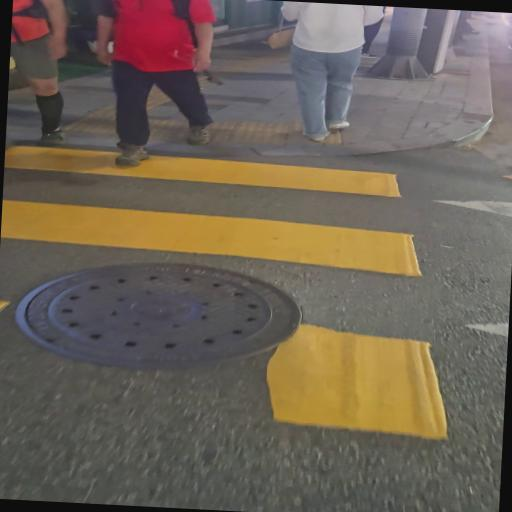yellow-crosswalk: (0, 124, 506, 512)
